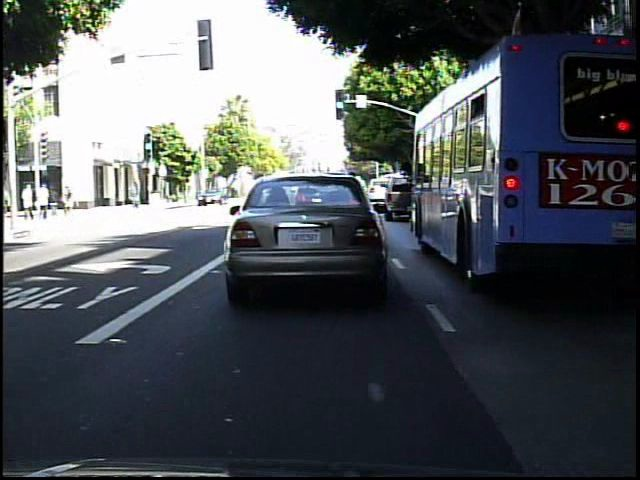person: (37, 181, 52, 221), (126, 178, 143, 213), (20, 182, 35, 221), (61, 182, 76, 220), (49, 184, 63, 220), (65, 181, 66, 219)
